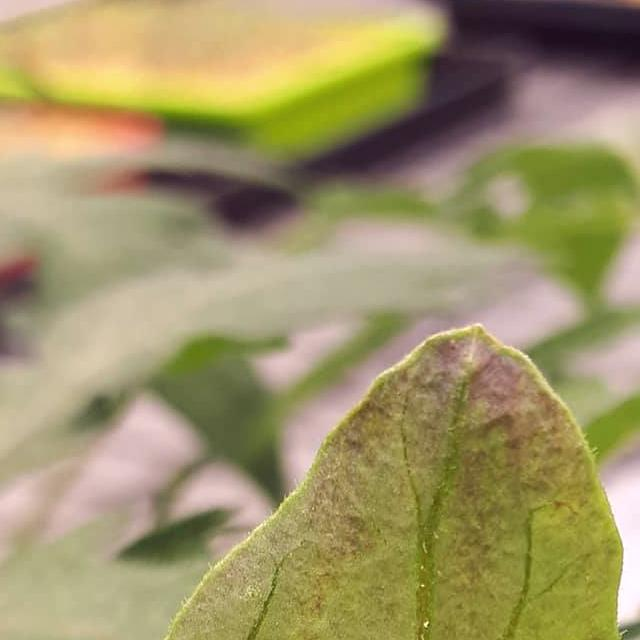Tomato mold leaf: (44, 289, 640, 640)
